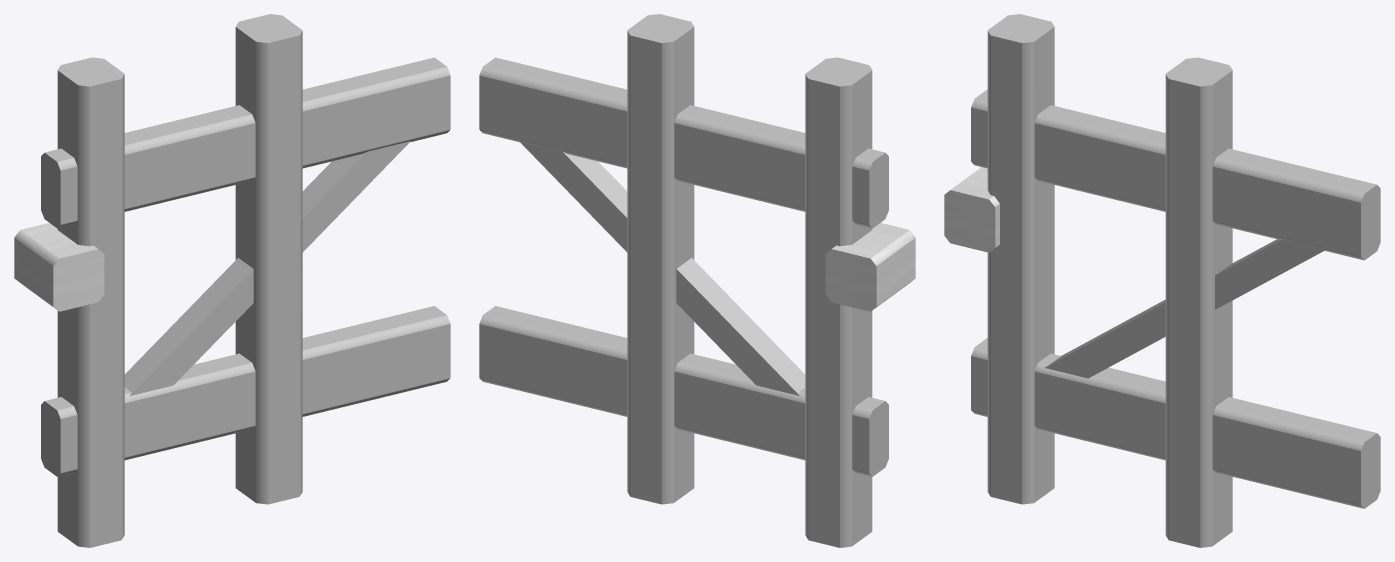
The model's file is gate_leaf.obj.
The picture shows the model from 3 angles, left to right: view 1: azimuth 30°, elevation 25°; view 2: azimuth 150°, elevation 25°; view 3: azimuth 330°, elevation 25°; orthographic projection.
Visible parts, largest first — view 1: outer_picket, hinge_picket, upper_rail, lower_rail, diagonal_brace, hinge_hardware; view 2: outer_picket, hinge_picket, upper_rail, lower_rail, diagonal_brace, hinge_hardware; view 3: outer_picket, hinge_picket, upper_rail, lower_rail, diagonal_brace, hinge_hardware.
Part boxes in pixels (<box>): outer_picket: <box>235,14,302,504</box>; hinge_picket: <box>57,57,124,547</box>; upper_rail: <box>41,57,450,228</box>; lower_rail: <box>41,306,450,476</box>; diagonal_brace: <box>124,141,410,395</box>; hinge_hardware: <box>14,223,104,311</box>; outer_picket: <box>627,14,694,504</box>; hinge_picket: <box>805,57,872,547</box>; upper_rail: <box>479,57,888,228</box>; lower_rail: <box>479,306,888,476</box>; diagonal_brace: <box>519,141,805,395</box>; hinge_hardware: <box>825,223,915,311</box>; outer_picket: <box>1165,57,1232,547</box>; hinge_picket: <box>987,14,1054,504</box>; upper_rail: <box>971,89,1380,260</box>; lower_rail: <box>971,338,1380,508</box>; diagonal_brace: <box>1045,239,1325,378</box>; hinge_hardware: <box>944,167,999,252</box>.
Bounding box in the file's own units: 0.48 × 0.52 × 0.08.
